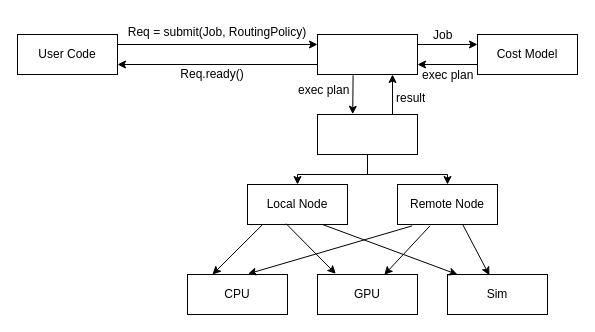
Image size: 595x332. Some labels were removed from this diagram. The shapes that lost their labels are listed below. From the top down, each one's box as (x1, y1, x2, y2) in pixels, then its label:
(316, 34, 418, 74): Runtime
(316, 114, 418, 154): Kernels
